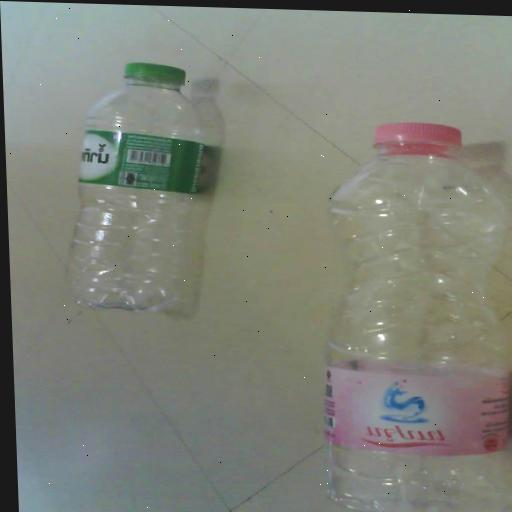bottle: (312, 121, 512, 512), (62, 61, 226, 313)
